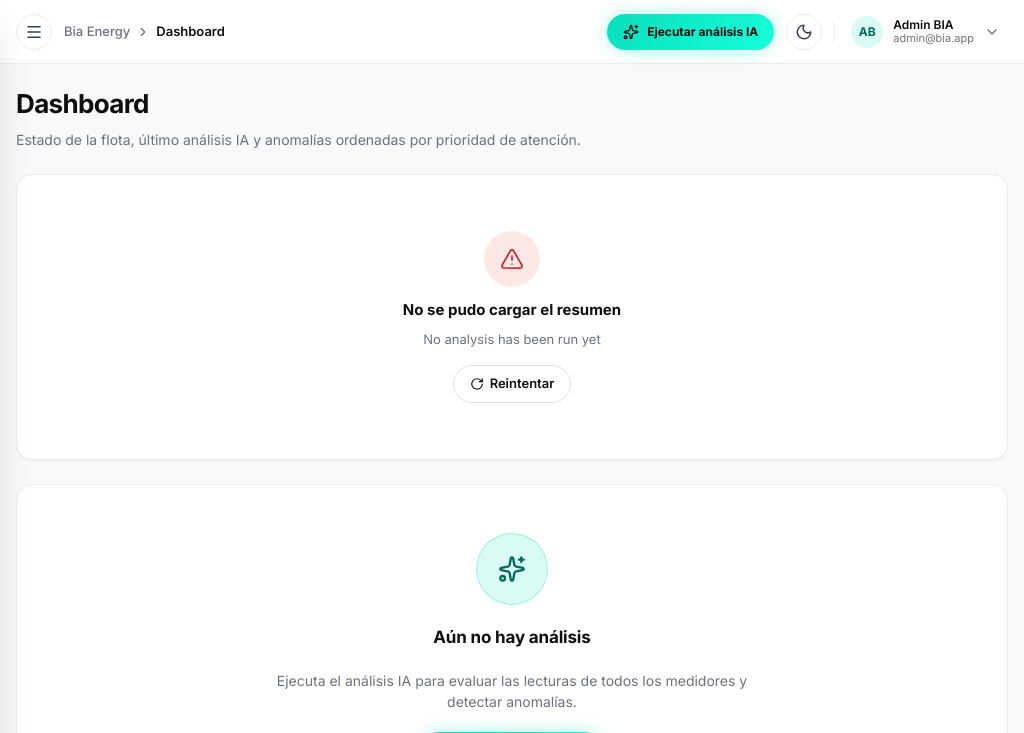
Test: routes › toggles the theme from the top bar
Click the button named "Cambiar a modo oscuro". click: (804, 32)
box: [786, 14, 822, 50]
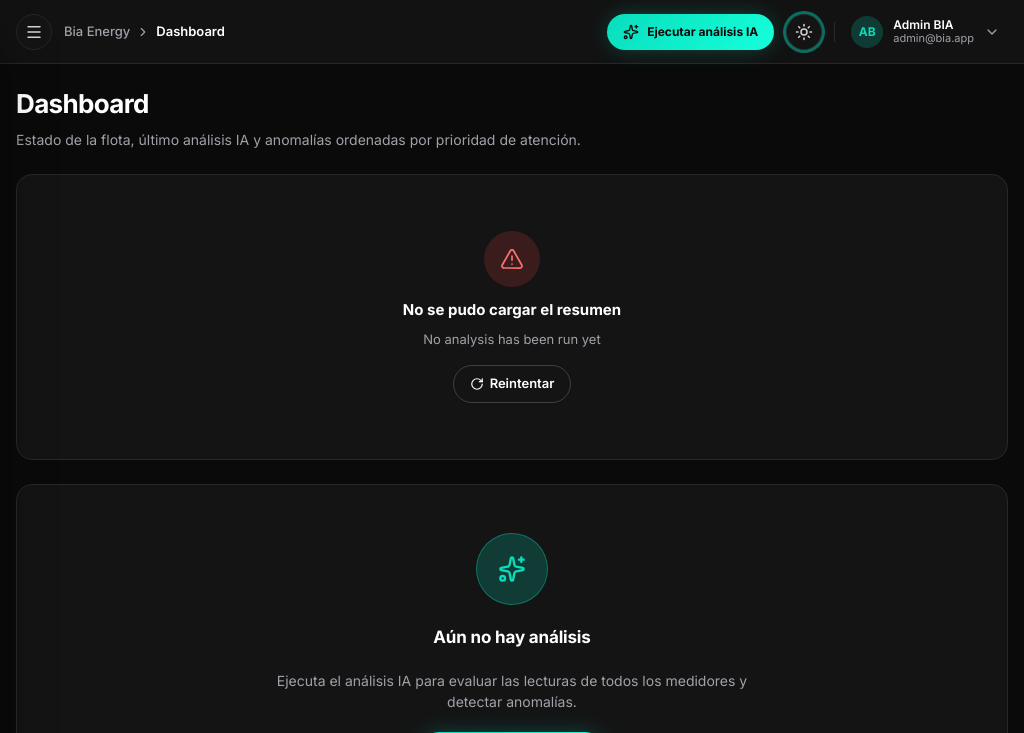
Expected: the button named "Cambiar a modo claro" is shown, [786, 14, 822, 50]
